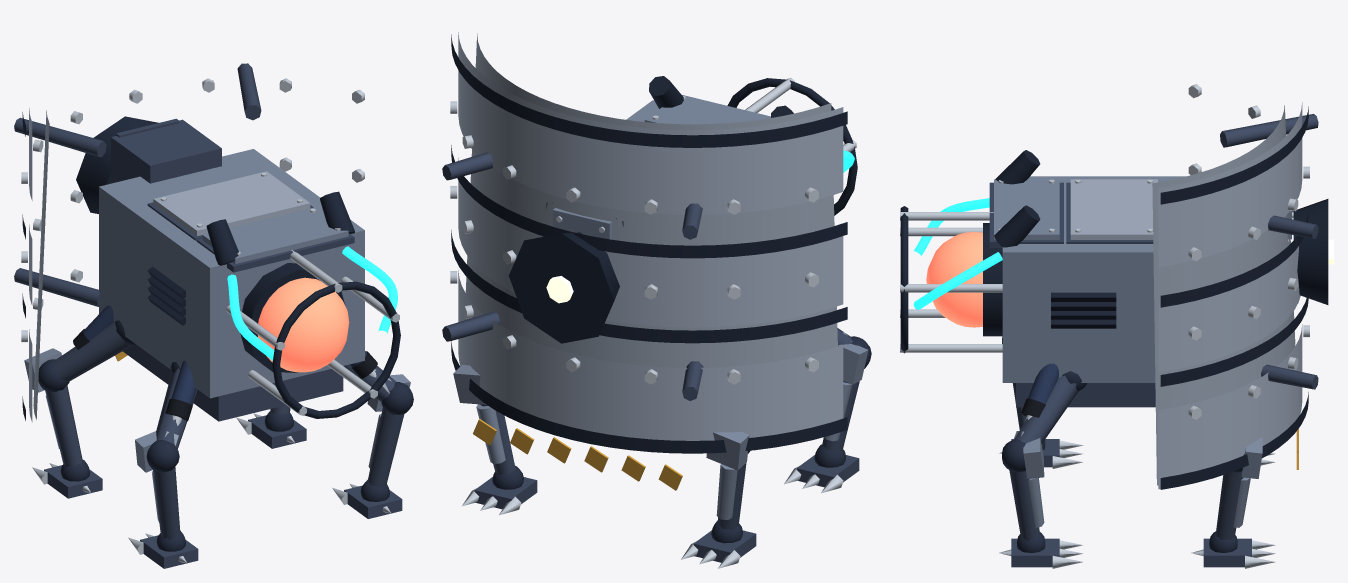
File: enemy_aegis.glb
3 views of the same model, side by side, from view 1: azimuth 30°, elevation 25°; view 2: azimuth 150°, elevation 25°; view 3: azimuth 270°, elevation 25° (orthographic). The views are drawn at different scales.
Parts seen in each view (by area): view 1: aegis_body, aegis_weak_core, aegis_back_plate_a_face, aegis_head, aegis_body_lower, aegis_back_plate_b_face, aegis_cage_ring, aegis_shield_boss, aegis_core_housing, aegis_leg_l_f_thigh, aegis_leg_l_f_shin, aegis_leg_r_b_shin (+25 smaller); view 2: aegis_shield_band_top, aegis_shield_band_low, aegis_shield, aegis_shield_band_mid, aegis_shield_boss, aegis_shield_rim2.02, aegis_shield_rim0.58, aegis_shield_rim1.5, aegis_shield_rim1.1, aegis_shield_hazard, aegis_back_plate_b_face, aegis_cage_ring (+19 smaller); view 3: aegis_body, aegis_shield, aegis_shield_band_top, aegis_shield_band_low, aegis_shield_band_mid, aegis_back_plate_a_face, aegis_weak_core, aegis_back_plate_b_face, aegis_shield_boss, aegis_flank_vent_r, aegis_body_lower, aegis_shield_rim2.02 (+27 smaller).
Boxes of the visible parts, x1,y1,x2,y2 form: aegis_body: (99, 149, 364, 398); aegis_weak_core: (258, 277, 349, 372); aegis_back_plate_a_face: (153, 171, 310, 235); aegis_head: (111, 119, 221, 183); aegis_body_lower: (122, 345, 343, 421); aegis_back_plate_b_face: (202, 207, 348, 263); aegis_cage_ring: (272, 281, 400, 418); aegis_shield_boss: (76, 116, 158, 213); aegis_core_housing: (240, 263, 345, 372); aegis_leg_l_f_thigh: (54, 322, 131, 382); aegis_leg_l_f_shin: (45, 385, 82, 467); aegis_leg_r_b_shin: (367, 408, 404, 487); aegis_shield_band_top: (458, 32, 843, 214); aegis_shield_band_low: (458, 270, 843, 440); aegis_shield: (465, 33, 837, 367); aegis_shield_band_mid: (458, 157, 843, 327); aegis_shield_boss: (508, 232, 619, 343); aegis_shield_rim2.02: (451, 34, 847, 147); aegis_shield_rim0.58: (451, 341, 847, 453); aegis_shield_rim1.5: (451, 145, 847, 258); aegis_shield_rim1.1: (451, 230, 847, 343); aegis_shield_hazard: (473, 419, 682, 490); aegis_back_plate_b_face: (644, 95, 770, 124); aegis_cage_ring: (727, 78, 857, 215); aegis_body: (1002, 176, 1185, 382); aegis_shield: (1152, 105, 1295, 485); aegis_shield_band_top: (1158, 102, 1302, 267); aegis_shield_band_low: (1158, 324, 1302, 489); aegis_shield_band_mid: (1158, 246, 1300, 372); aegis_back_plate_a_face: (1070, 179, 1157, 239); aegis_weak_core: (926, 232, 982, 327); aegis_back_plate_b_face: (994, 179, 1059, 239); aegis_shield_boss: (1293, 199, 1328, 304); aegis_flank_vent_r: (1051, 292, 1116, 328); aegis_body_lower: (1016, 383, 1155, 407); aegis_shield_rim2.02: (1160, 106, 1308, 204).
Bounding box in the file's own units: 1.94 × 2.06 × 1.99.
